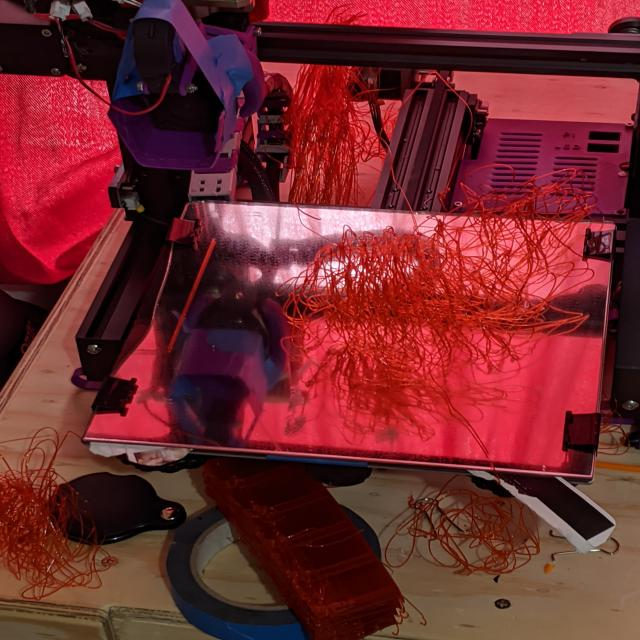spaghetti: (267, 148, 638, 462), (0, 425, 119, 607), (366, 480, 545, 578), (286, 24, 365, 218)
